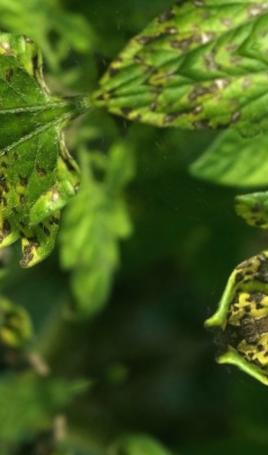Tomato Septoria leaf spot: (76, 29, 268, 190), (168, 102, 268, 338), (0, 113, 107, 329)
